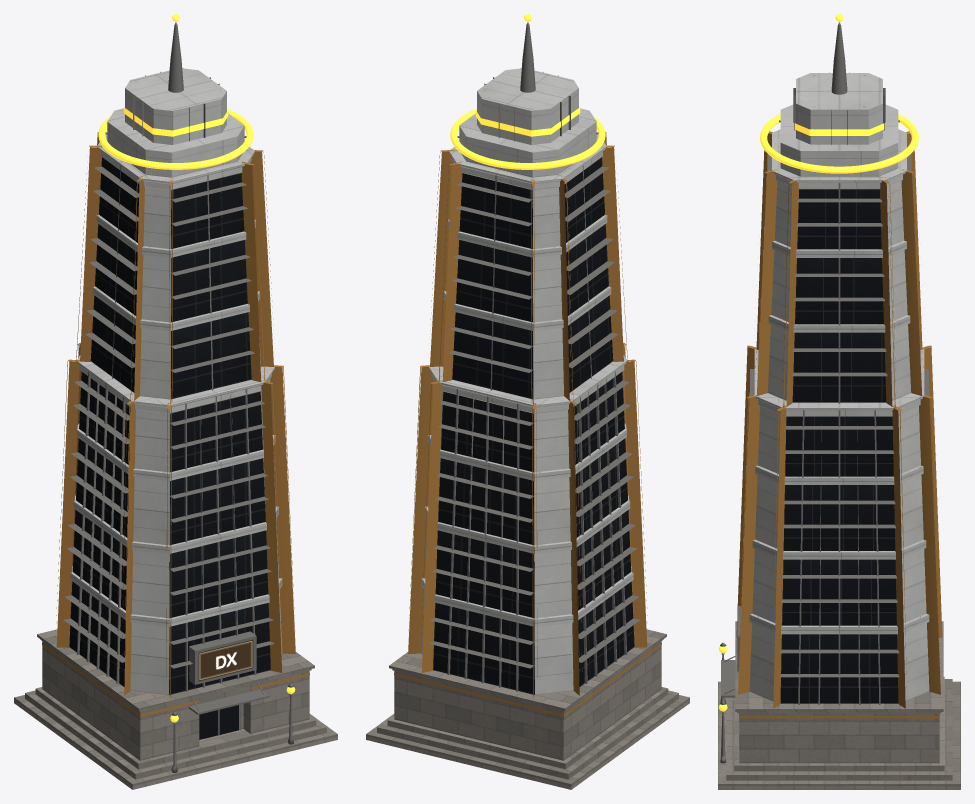
File: diagnostic-x.glb
The picture shows the model from 3 angles, left to right: view 1: azimuth 30°, elevation 25°; view 2: azimuth 150°, elevation 25°; view 3: azimuth 270°, elevation 25°; orthographic projection. The views are drawn at different scales.
Parts seen in each view (by area): view 1: Landmark · Diagnostic.X; view 2: Landmark · Diagnostic.X; view 3: Landmark · Diagnostic.X.
Part boxes in pixels (box(x1,y1,x2,y2)): Landmark · Diagnostic.X: box(14, 14, 337, 789); Landmark · Diagnostic.X: box(366, 14, 689, 789); Landmark · Diagnostic.X: box(718, 14, 960, 789).
Size of the model in its own units: 12 by 39.5 by 12.
7 materials, 4 textured.
